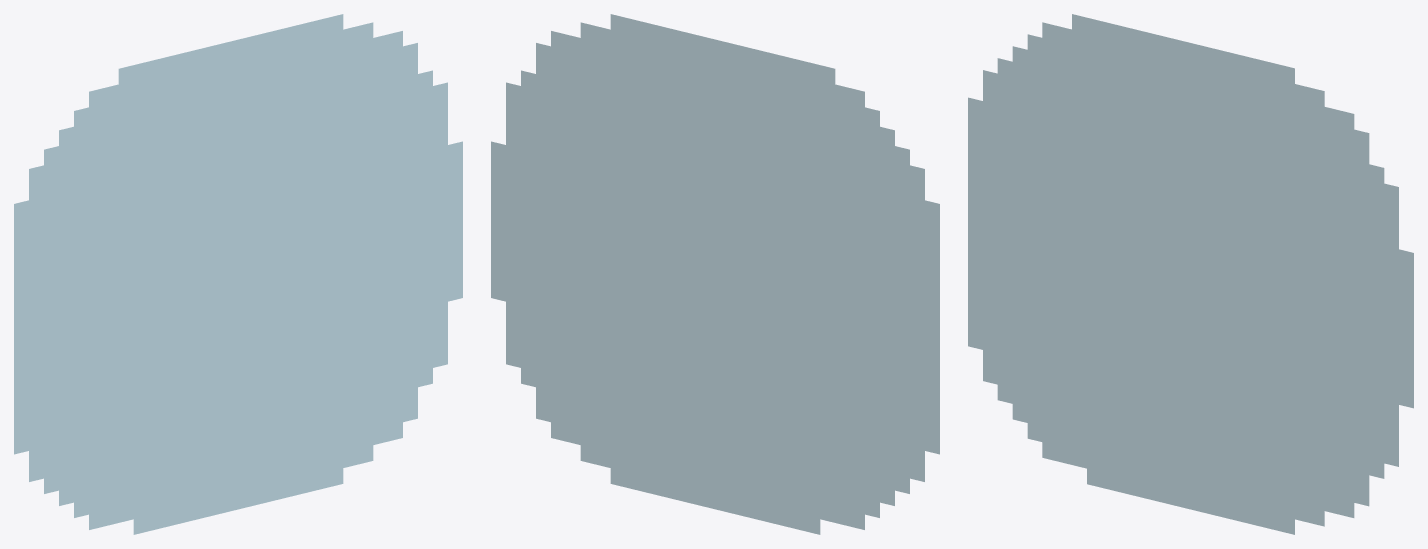
File: wp_water_193.obj
The picture shows the model from 3 angles, left to right: view 1: azimuth 30°, elevation 25°; view 2: azimuth 150°, elevation 25°; view 3: azimuth 330°, elevation 25°; orthographic projection.
Size of the model in its own units: 0.45 by 0.45 by 0.
1 material, 1 textured.
